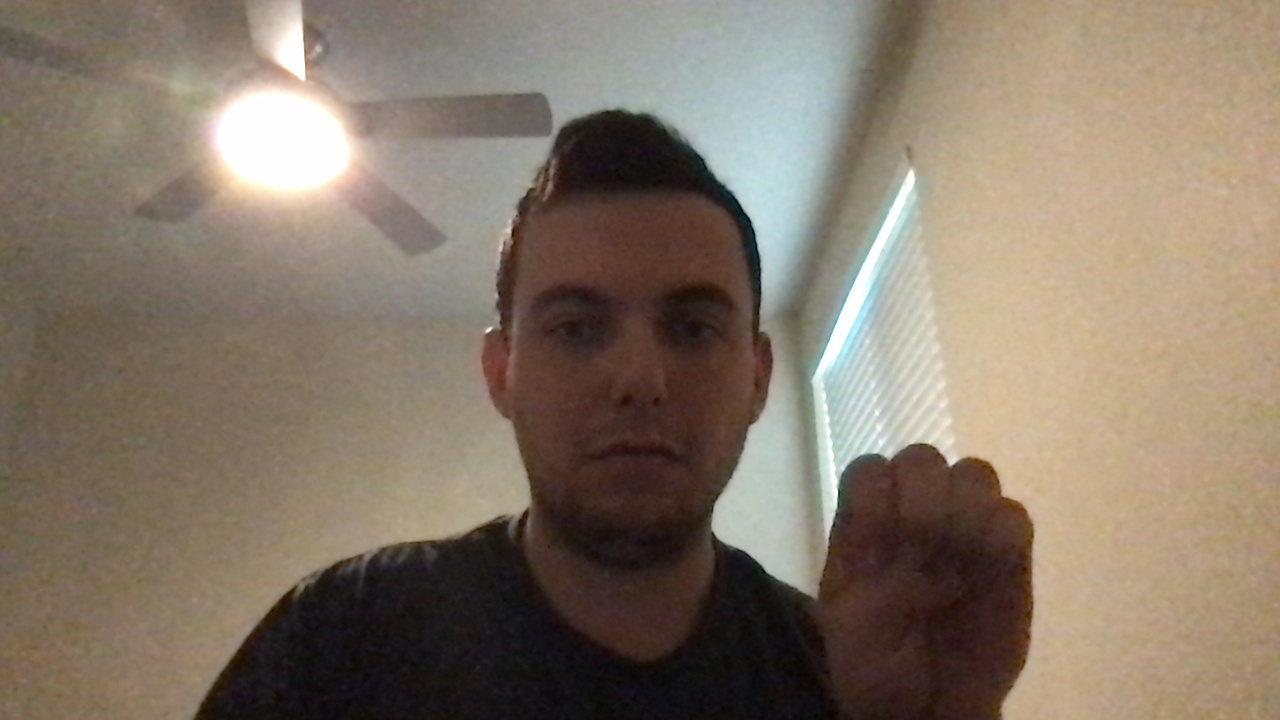e: (803, 442, 1054, 718)
